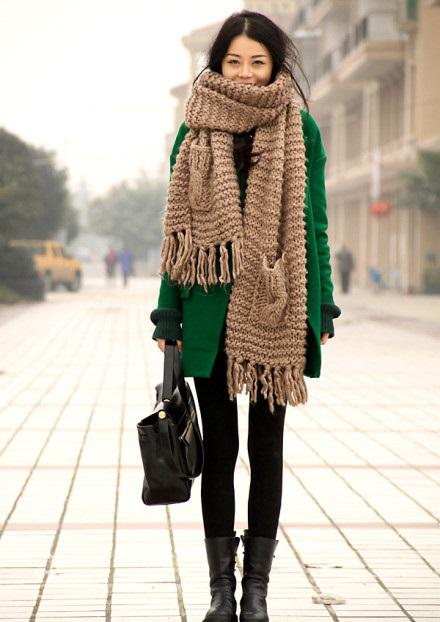WRONG: (220, 50, 277, 107)
